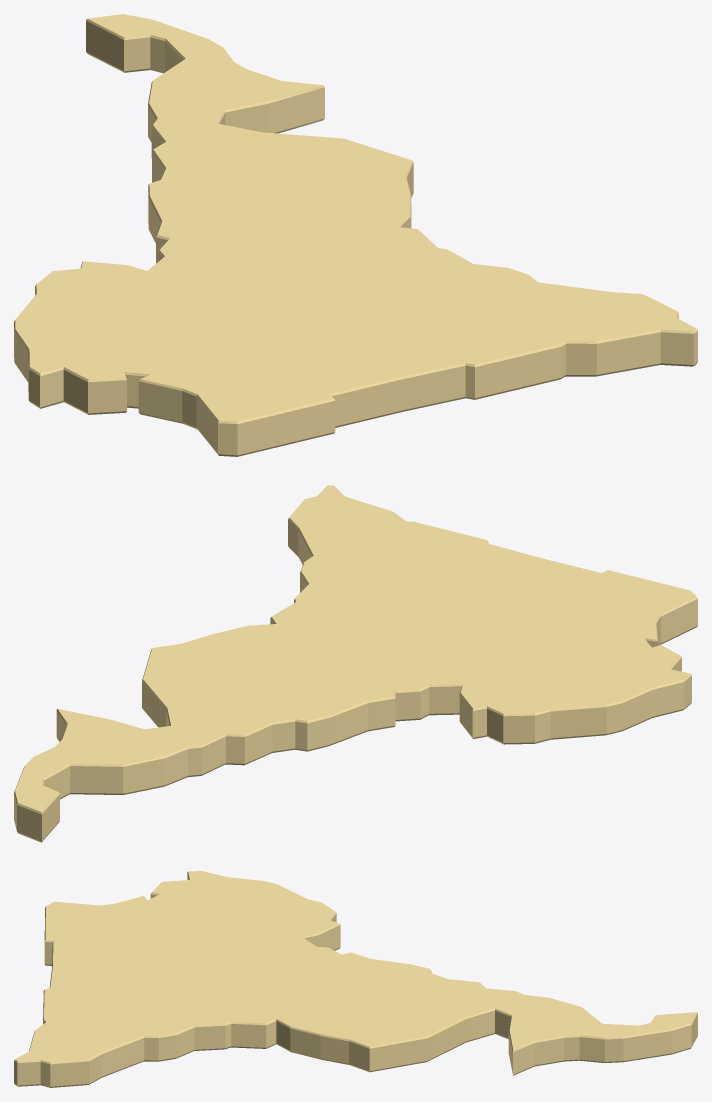
Rendered from CMR.glb.
3 views of the same model, one above another, from view 1: azimuth 30°, elevation 25°; view 2: azimuth 150°, elevation 25°; view 3: azimuth 270°, elevation 25° (orthographic). The views are drawn at different scales.
Size of the model in its own units: 1.1 by 0.068 by 1.65.
